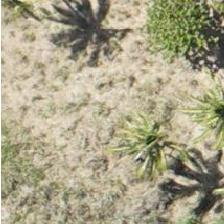coconut_tree: (119, 100, 209, 190)
